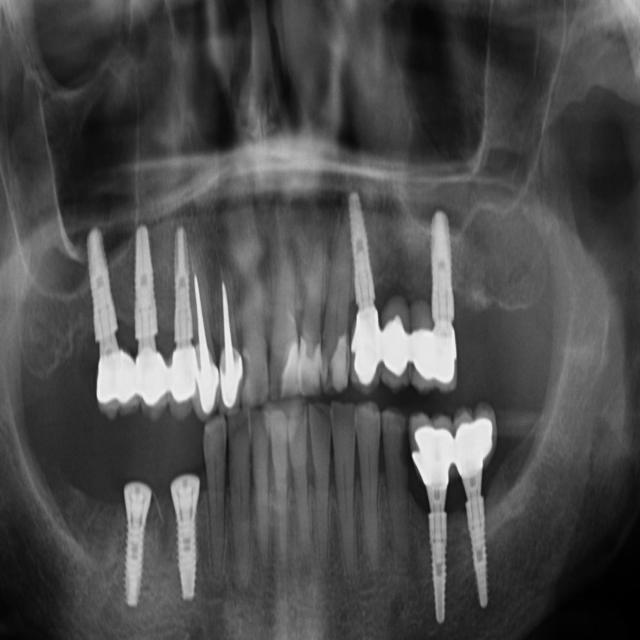dolgu: (326, 332, 355, 389), (278, 333, 302, 399), (299, 337, 323, 394)
implant: (82, 218, 139, 424), (456, 406, 510, 608), (409, 398, 457, 622), (340, 186, 388, 397), (419, 195, 466, 388), (126, 222, 169, 421), (109, 477, 158, 627), (163, 220, 199, 407), (165, 469, 211, 604)
kanal-tedavisi: (206, 273, 253, 368), (180, 265, 222, 355)
kaplama: (217, 344, 244, 405), (198, 352, 219, 416)
kopru: (367, 316, 452, 386)
